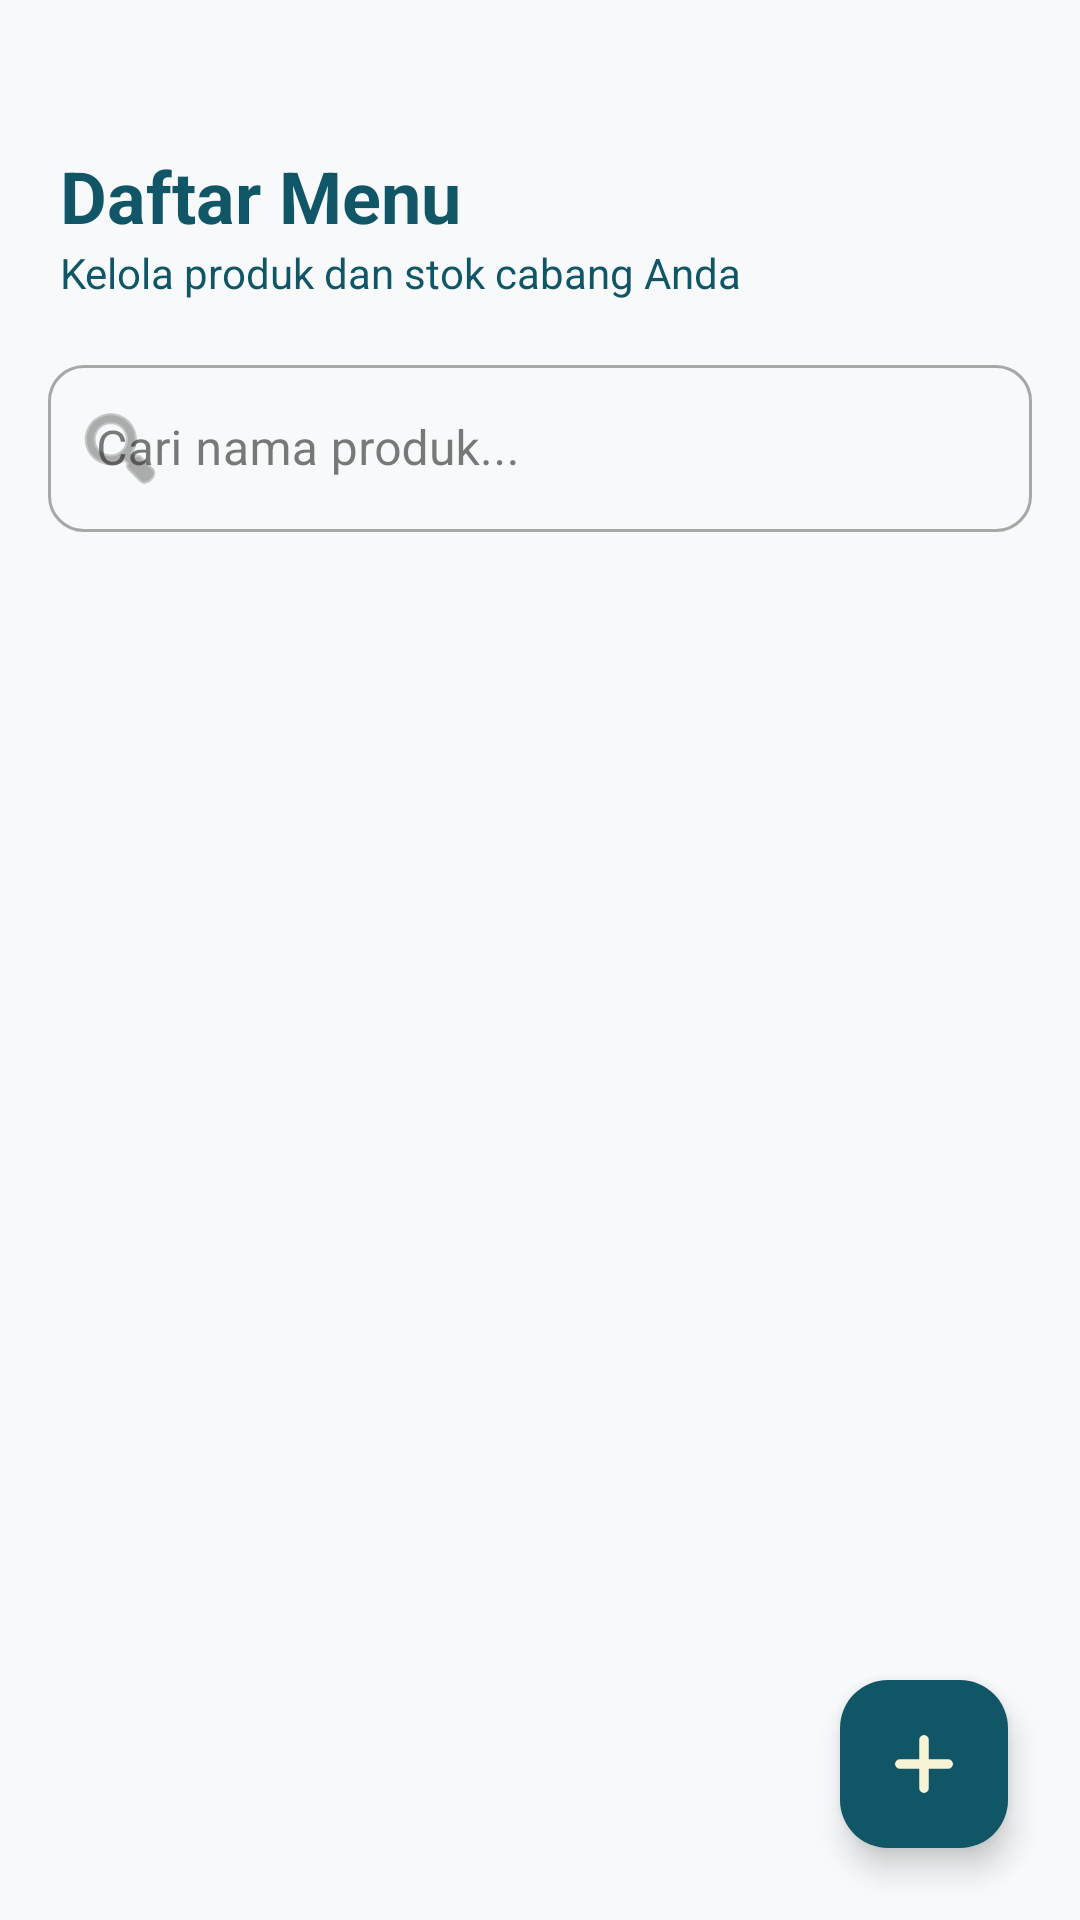

Screen size 1080 × 1920. Icon name, then its box in pixels as (x1, y1, x2, y2):
Tambah Menu Baru: (840, 1680, 1008, 1848)
